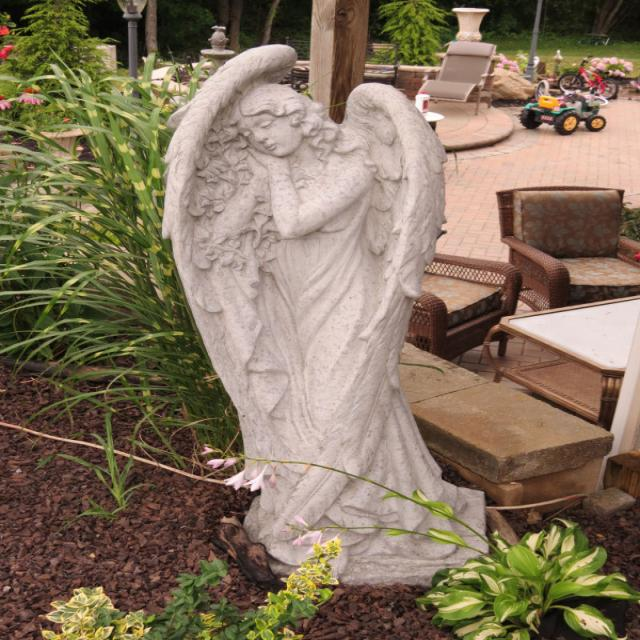Concrete: (161, 44, 487, 594)
